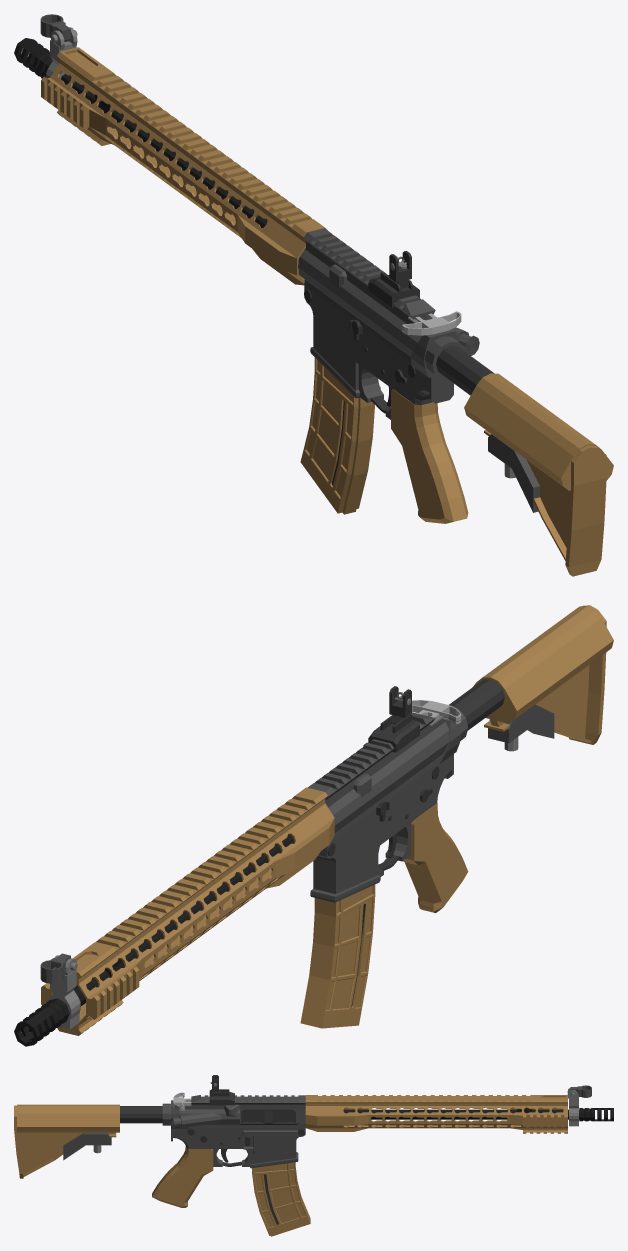
3 views of the same model, one above another, from view 1: azimuth 30°, elevation 25°; view 2: azimuth 150°, elevation 25°; view 3: azimuth 270°, elevation 25° (orthographic). The views are drawn at different scales.
Parts seen in each view (by area): view 1: M4, Mag, Rear_Sight, Bolt; view 2: M4, Mag, Rear_Sight, Bolt, Sight; view 3: M4, Mag, Rear_Sight, Bolt.
Boxes of the visible parts, x1=… form: M4: x1=14, y1=27, x2=613, y2=576; Mag: x1=300, y1=357, x2=374, y2=514; Rear_Sight: x1=368, y1=251, x2=419, y2=307; Bolt: x1=402, y1=311, x2=461, y2=335; M4: x1=14, y1=605, x2=613, y2=1046; Mag: x1=300, y1=884, x2=375, y2=1028; Rear_Sight: x1=368, y1=686, x2=419, y2=752; Bolt: x1=412, y1=700, x2=461, y2=726; Sight: x1=40, y1=953, x2=70, y2=983; M4: x1=14, y1=1087, x2=613, y2=1207; Mag: x1=252, y1=1162, x2=310, y2=1236; Rear_Sight: x1=209, y1=1075, x2=234, y2=1105; Bolt: x1=173, y1=1092, x2=191, y2=1110.
Size of the model in its own units: 58.38 by 241 by 831.
1 material, 1 textured.
